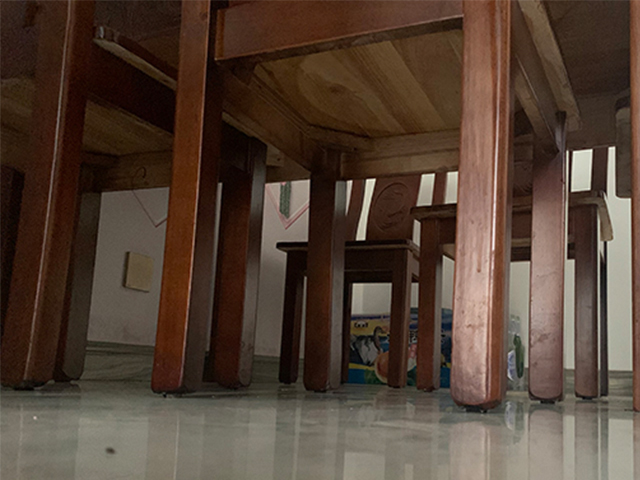stool: (152, 1, 585, 413), (410, 145, 617, 400), (276, 169, 449, 391)
